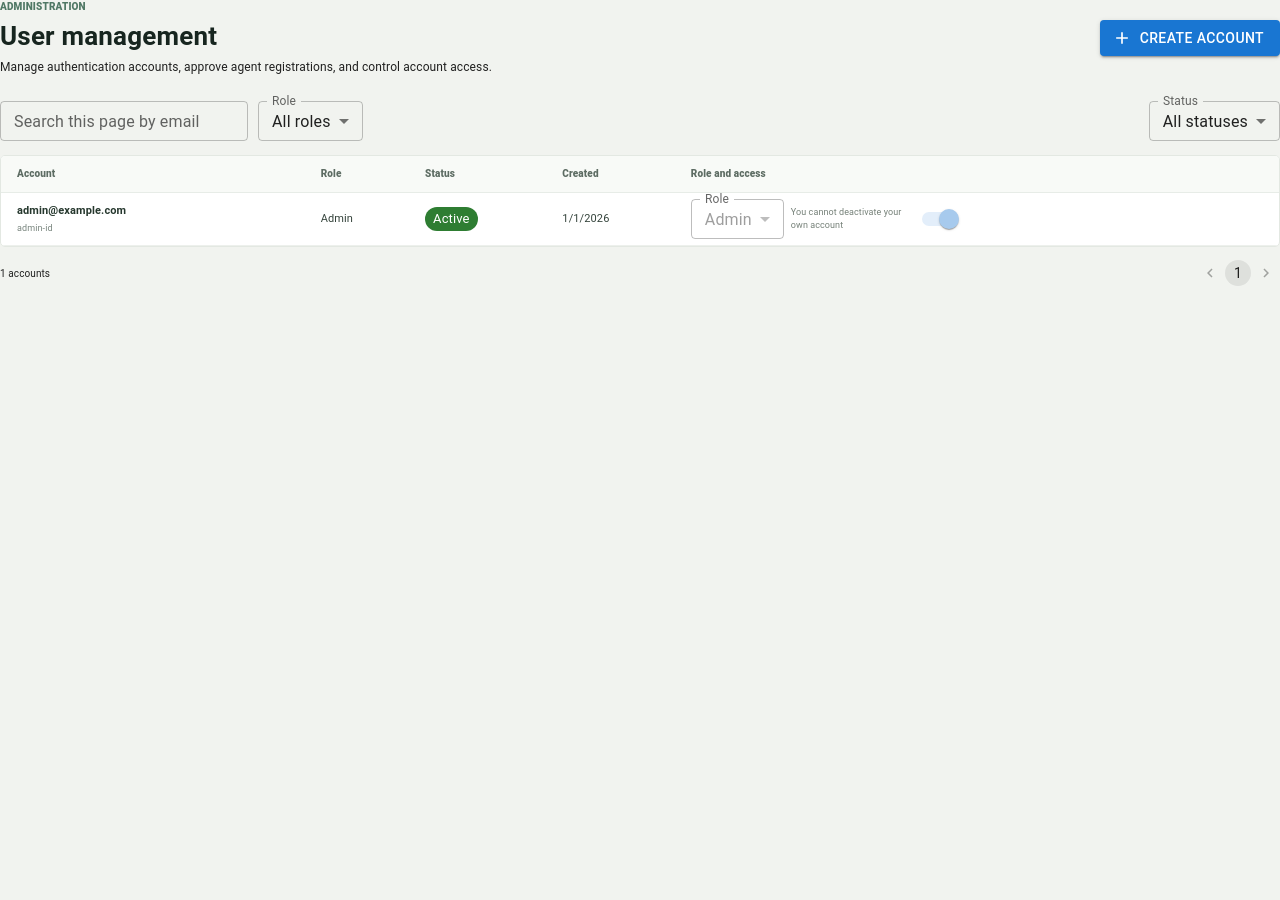
Test: admin user management › creates an admin account using only the authentication API
The width and height of the screenshot is (1280, 900).
Click the button "Create account": click(1190, 38) [1100,20,1279,56]
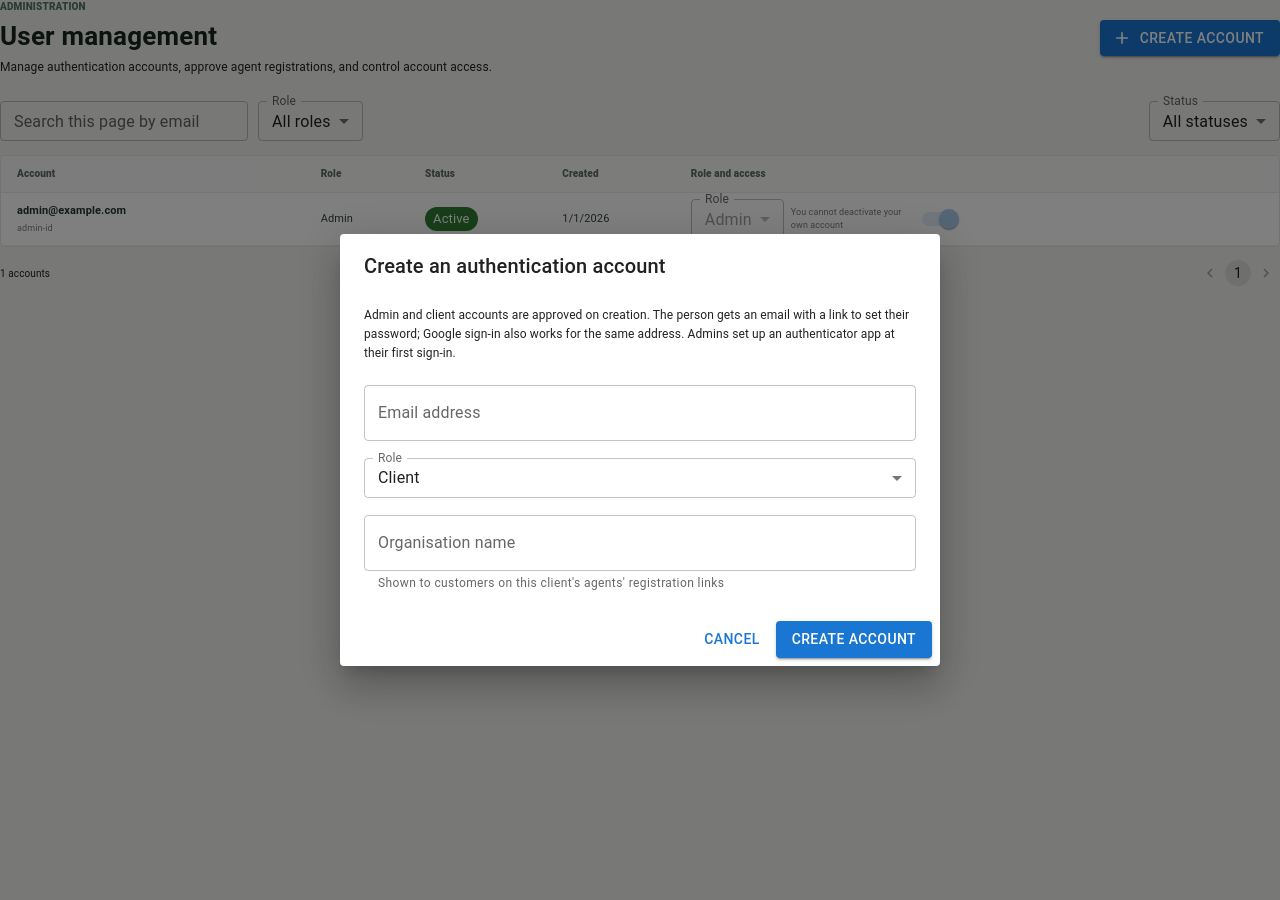
In the field labelled "Email address": (640, 413) [364,385,916,441], type "new-admin@example.com"
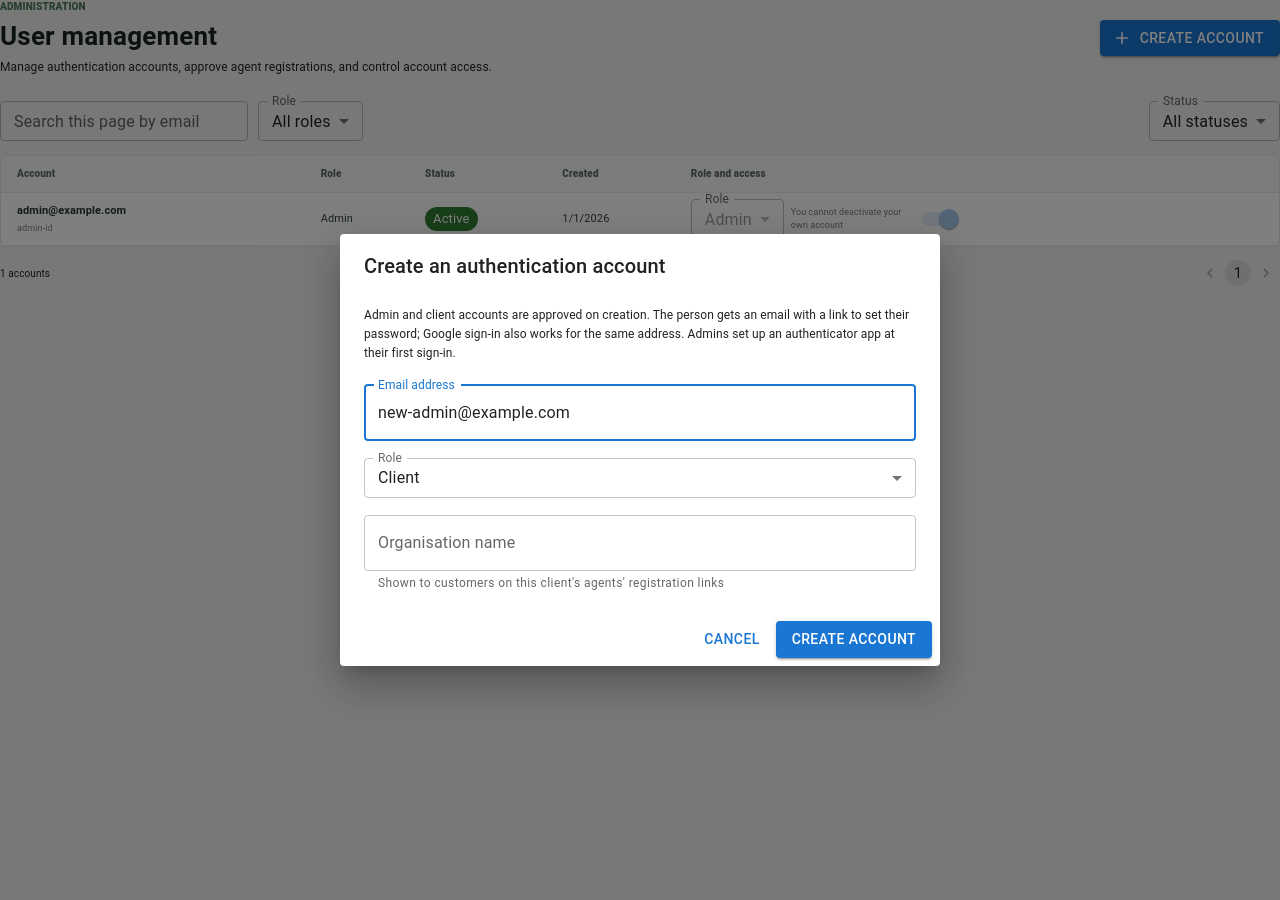
In the field labelled "Organisation name": (640, 543) [364,515,916,571], type " Acme Bank "
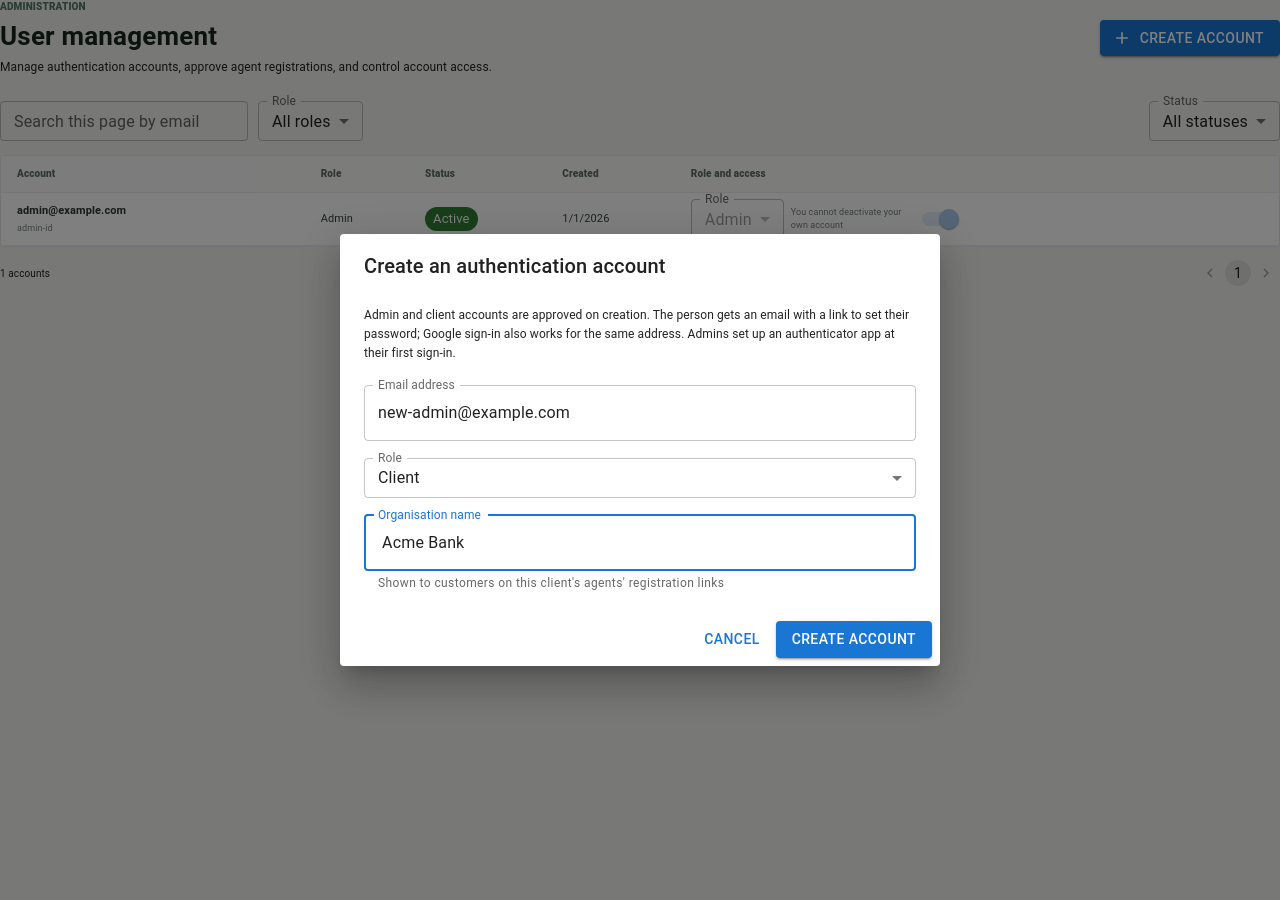
Expected: the field labelled "password" is not shown
Click the button "Create account": click(854, 640) [776,622,932,658]
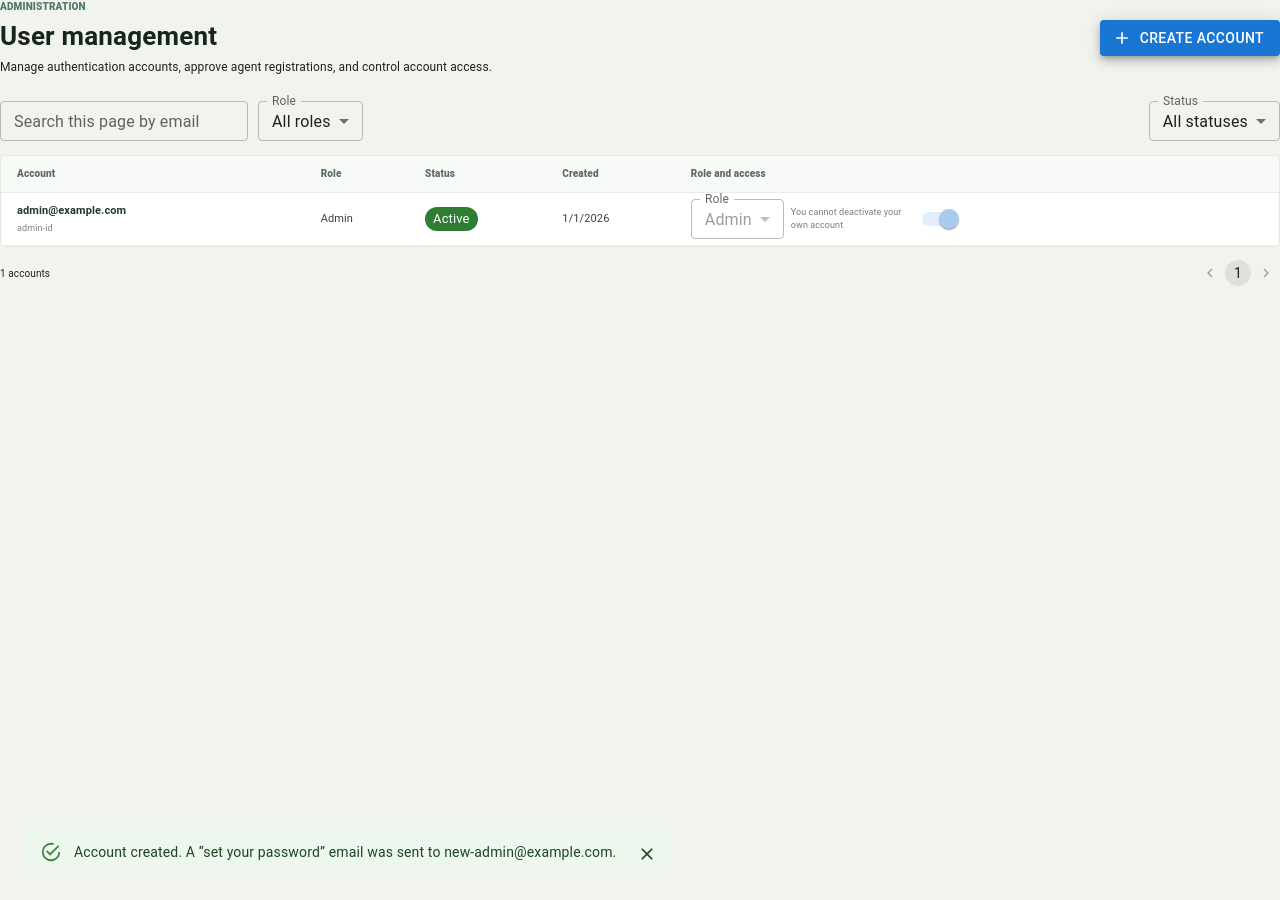
Expected: the text "“set your password” email was sent" is shown, [74,844,616,860]
